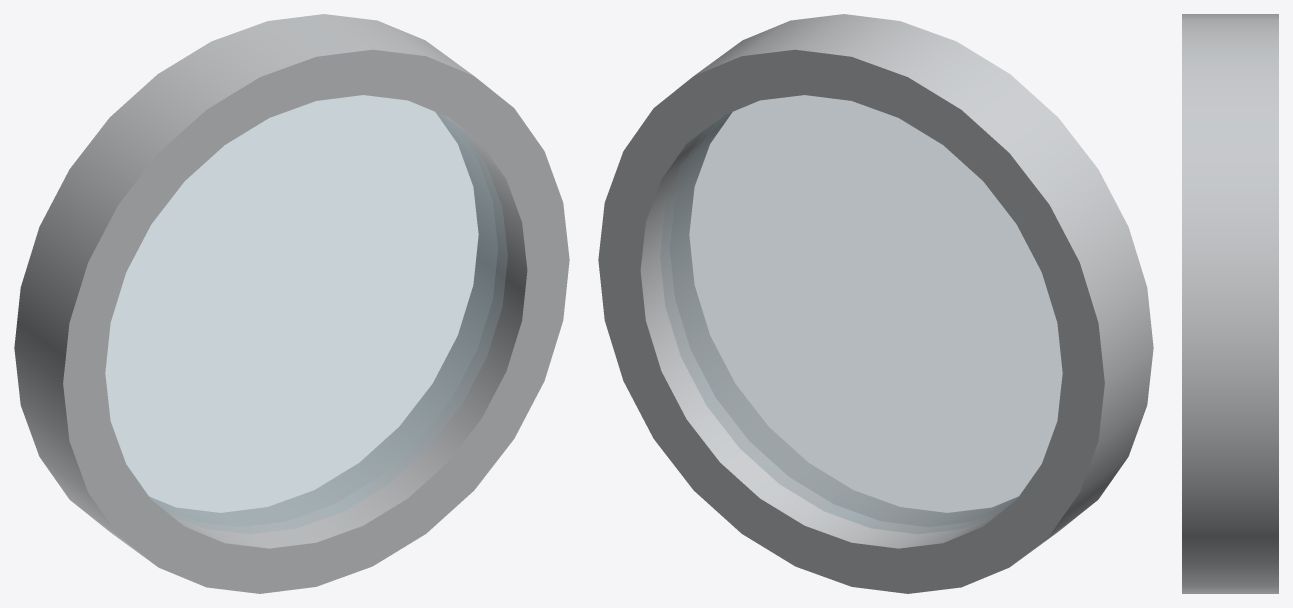
Rendered from opening.window.round_600.glb.
The picture shows the model from 3 angles, left to right: view 1: azimuth 30°, elevation 25°; view 2: azimuth 150°, elevation 25°; view 3: azimuth 270°, elevation 25°; orthographic projection.
Parts seen in each view (by area): view 1: glazing__glass, frame__aluminium; view 2: glazing__glass, frame__aluminium; view 3: frame__aluminium.
Boxes of the visible parts, <box> form: glazing__glass: <box>105,95,507,533</box>; frame__aluminium: <box>14,14,569,593</box>; glazing__glass: <box>660,95,1062,533</box>; frame__aluminium: <box>598,14,1153,593</box>; frame__aluminium: <box>1182,14,1278,593</box>.
Size of the model in its own units: 0.6 by 0.6 by 0.1.
